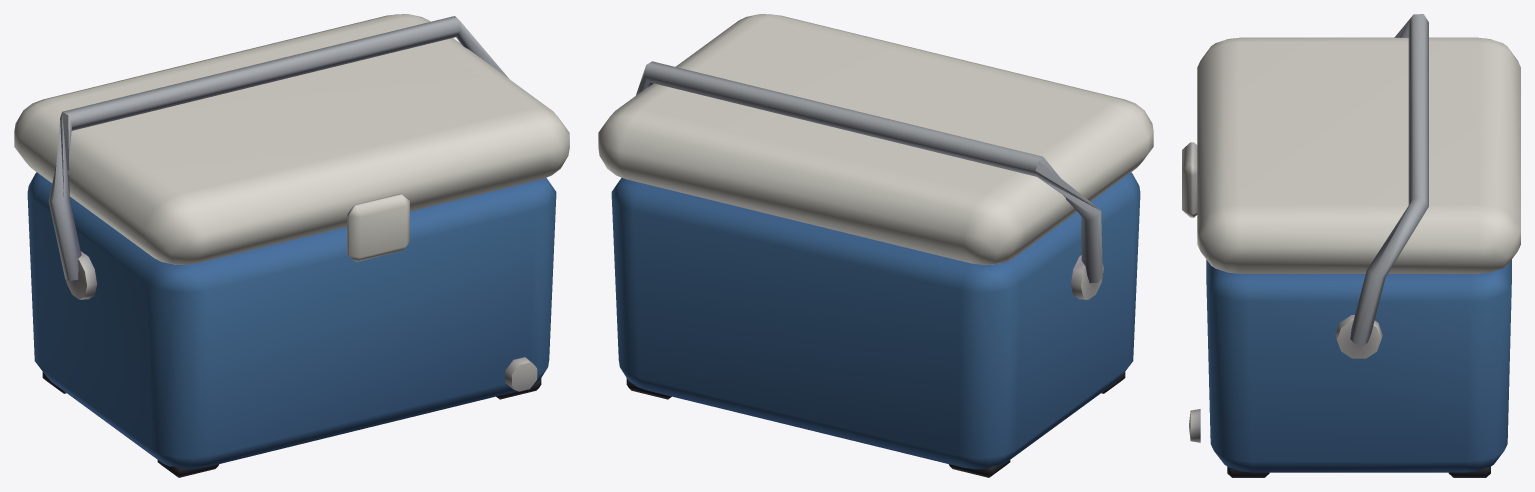
File: CoolBox.fbx
3 renders of one model, left to right at view 1: azimuth 30°, elevation 25°; view 2: azimuth 150°, elevation 25°; view 3: azimuth 270°, elevation 25°, orthographic. The views are drawn at different scales.
Parts seen in each view (by area): view 1: CoolBox; view 2: CoolBox; view 3: CoolBox.
Boxes of the visible parts, x1,y1,x2,y2 form: CoolBox: (14, 14, 569, 477); CoolBox: (598, 14, 1153, 477); CoolBox: (1182, 14, 1520, 477).
Bounding box in the file's own units: 0.6065 × 0.3723 × 0.398.
